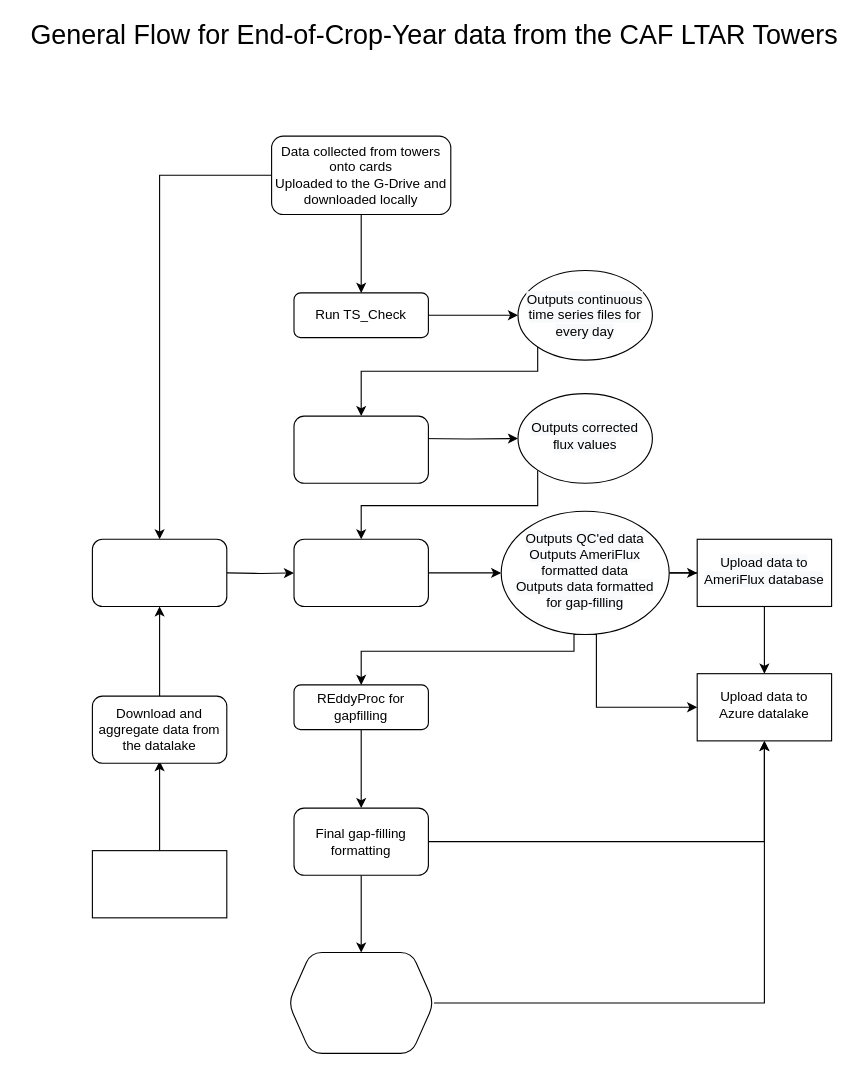
Image size: 867x1073. Some labels were removed from this diagram. The box of each missing label's shape, as (x1, y1, x2, y2) in pixels:
Aggregate the flux data from the cards and combine with data lake data: (91, 538, 227, 606)
Data sent directly to datalake from towers: (91, 850, 227, 918)
LTAR main QA/QC processing codeset in Python: (293, 538, 428, 606)
Manual check data matches expectations: (287, 951, 434, 1053)
TS Data run through EddyPro for each site: (293, 415, 428, 483)
